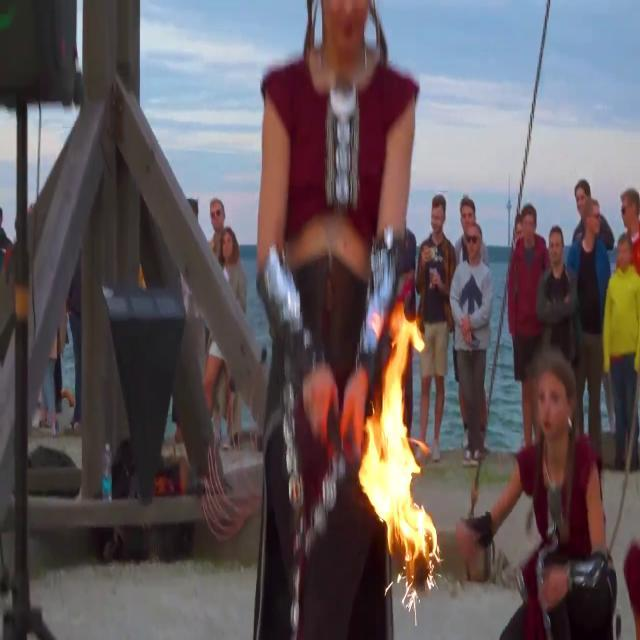Fire: (348, 308, 441, 579)
